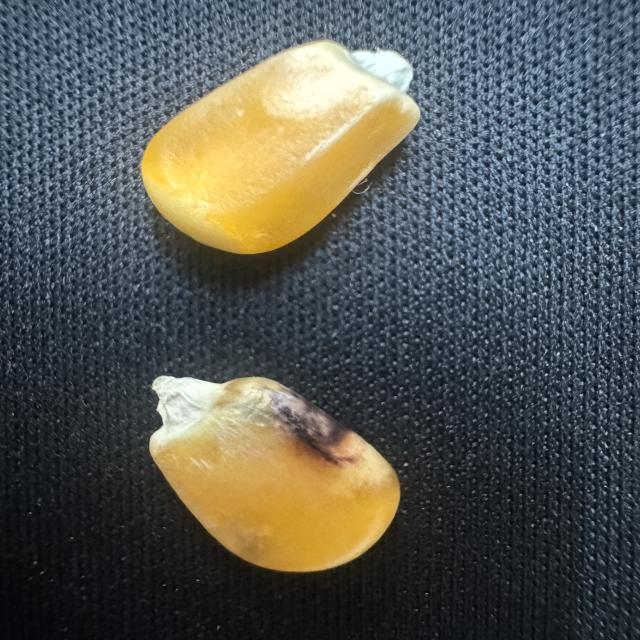Bad-Seed: (140, 360, 406, 580)
Good-Seed: (134, 34, 426, 263)
